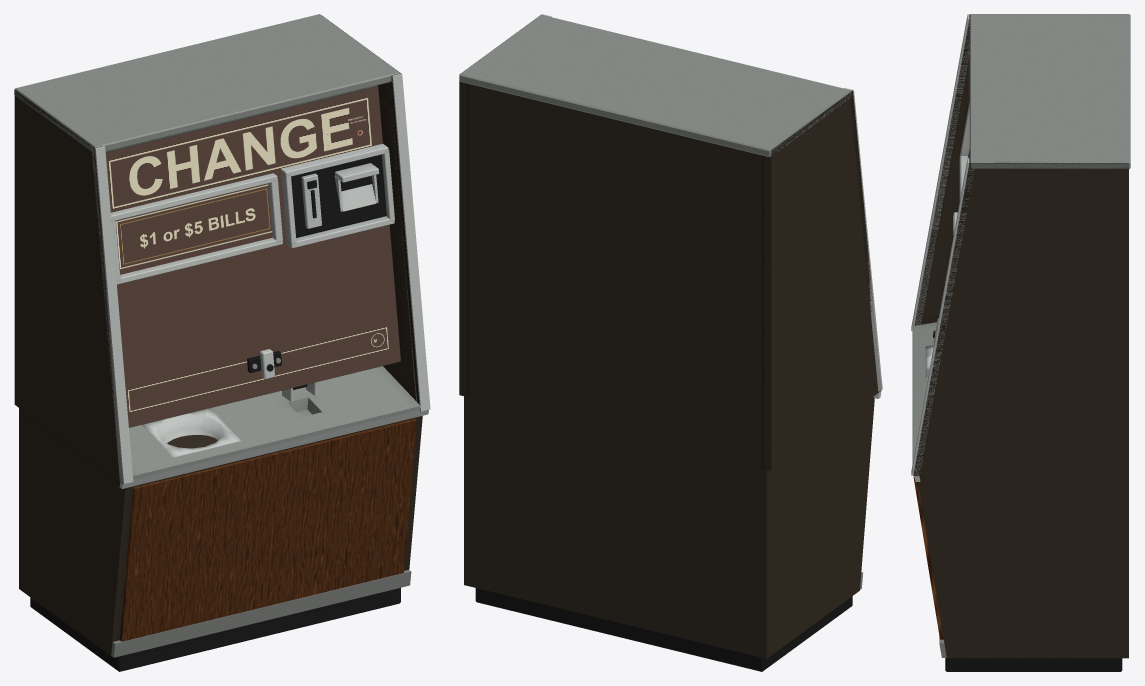
File: vegas_change_machine.glb
The picture shows the model from 3 angles, left to right: view 1: azimuth 30°, elevation 25°; view 2: azimuth 150°, elevation 25°; view 3: azimuth 270°, elevation 25°; orthographic projection. The views are drawn at different scales.
Parts seen in each view (by area): view 1: vegas_change_machine_Body, Printed face; view 2: vegas_change_machine_Body; view 3: vegas_change_machine_Body.
Boxes of the visible parts, <box> form: vegas_change_machine_Body: <box>14,14,430,671</box>; Printed face: <box>105,86,400,427</box>; vegas_change_machine_Body: <box>459,14,882,671</box>; vegas_change_machine_Body: <box>911,14,1130,671</box>.
Size of the model in its own units: 1.07 by 1.74 by 0.668.
Materials: 2 (2 with a texture image).
